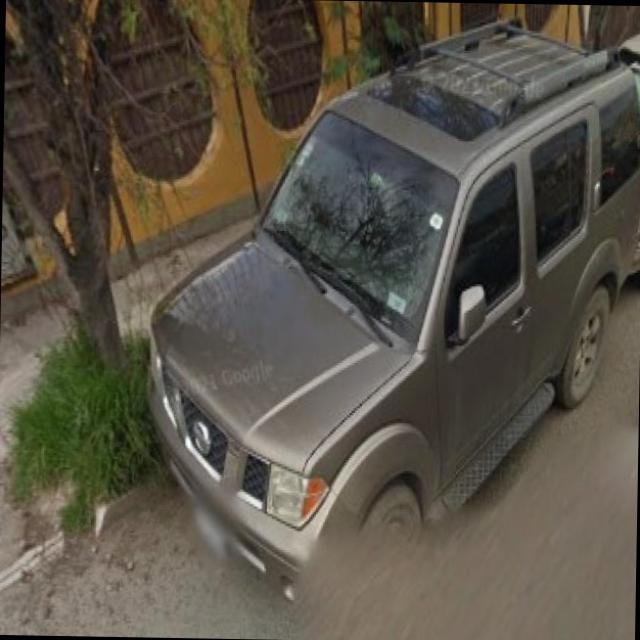car: (155, 39, 638, 586)
